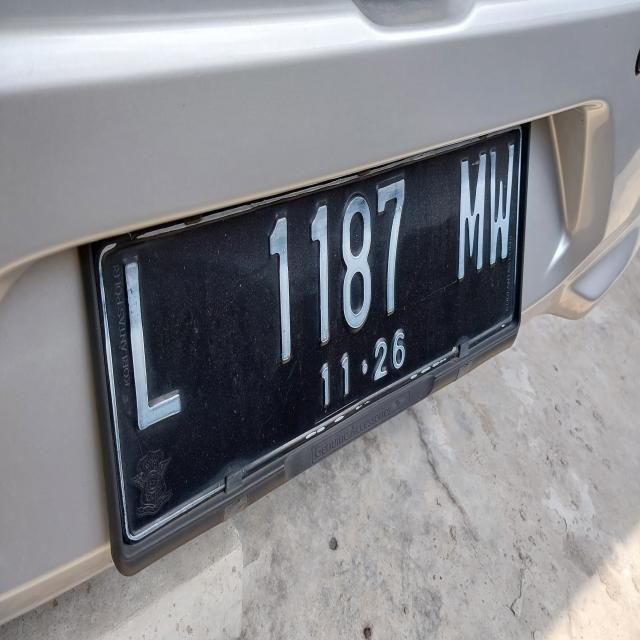1: (258, 204, 304, 378), (302, 187, 340, 360)
7: (369, 167, 417, 324)
8: (332, 177, 380, 338)
L: (106, 257, 200, 447)
M: (452, 147, 494, 286)
W: (486, 133, 522, 284)
